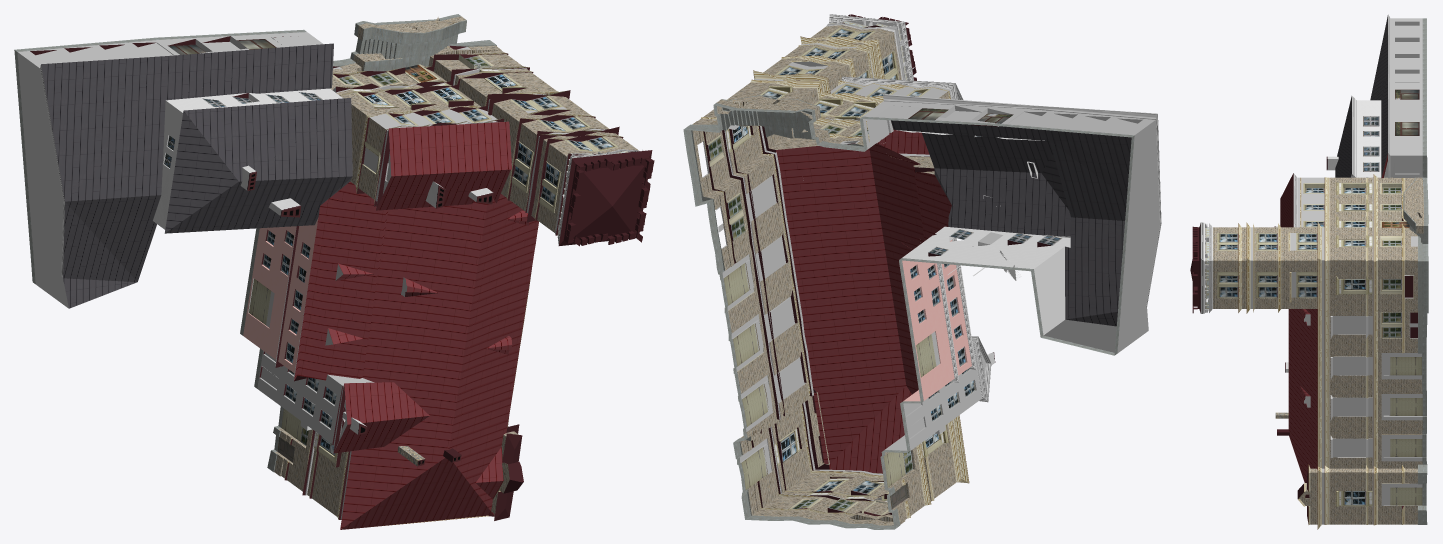
File: Vana_Viru_14-origo.obj
The picture shows the model from 3 angles, left to right: view 1: azimuth 30°, elevation 25°; view 2: azimuth 150°, elevation 25°; view 3: azimuth 270°, elevation 25°; orthographic projection. The views are drawn at different scales.
Visible parts, largest first — view 1: Vana_Viru_14; view 2: Vana_Viru_14; view 3: Vana_Viru_14.
Part boxes in pixels (x1,y1,x2,y2): Vana_Viru_14: (14,14,654,529); Vana_Viru_14: (683,14,1161,529); Vana_Viru_14: (1190,14,1428,529).
Bounding box in the file's own units: 44.56 × 46 × 26.76.
